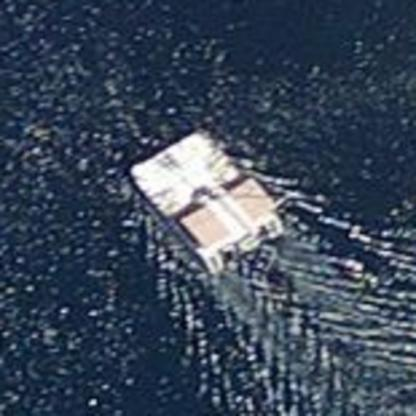ship: (109, 112, 296, 276)
